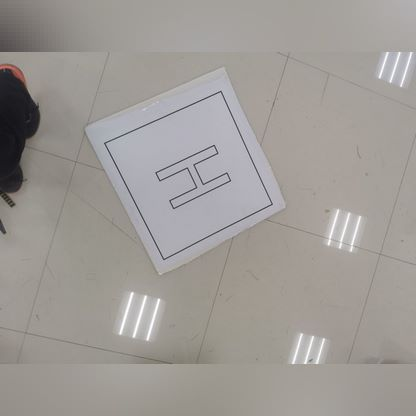H: (97, 96, 279, 249)
